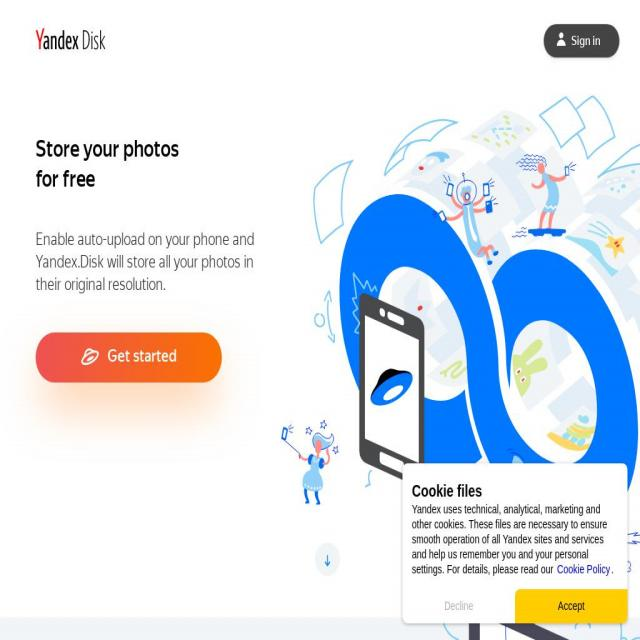login-option: (541, 20, 621, 62)
